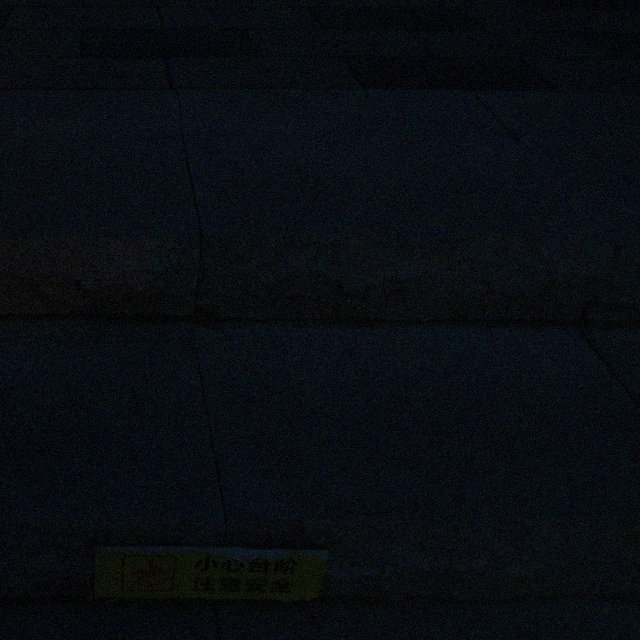stair: (1, 45, 639, 601)
